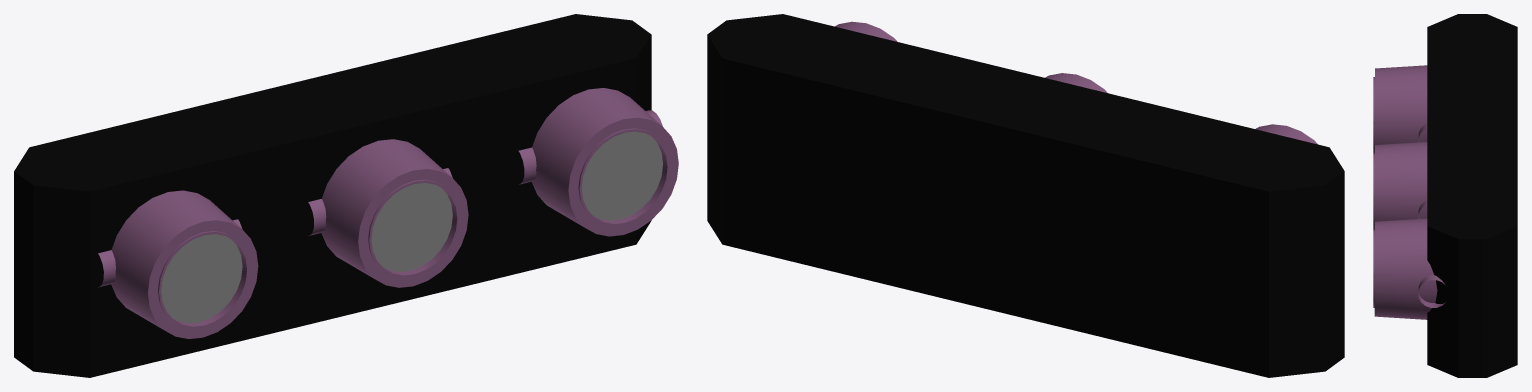
The model's file is lights 2.fbx.
3 renders of one model, left to right at view 1: azimuth 30°, elevation 25°; view 2: azimuth 150°, elevation 25°; view 3: azimuth 270°, elevation 25°, orthographic. The views are drawn at different scales.
Visible parts, largest first — view 1: Cube.002, SM_MovingHead_Head.007; view 2: Cube.002, SM_MovingHead_Head.007; view 3: Cube.002, SM_MovingHead_Head.007.
Boxes of the visible parts, <box> form: Cube.002: <box>14,14,651,377</box>; SM_MovingHead_Head.007: <box>98,88,678,338</box>; Cube.002: <box>707,14,1344,377</box>; SM_MovingHead_Head.007: <box>835,21,1317,144</box>; Cube.002: <box>1427,14,1517,377</box>; SM_MovingHead_Head.007: <box>1373,65,1445,319</box>.
Size of the model in its own units: 200 by 57.58 by 54.32.
